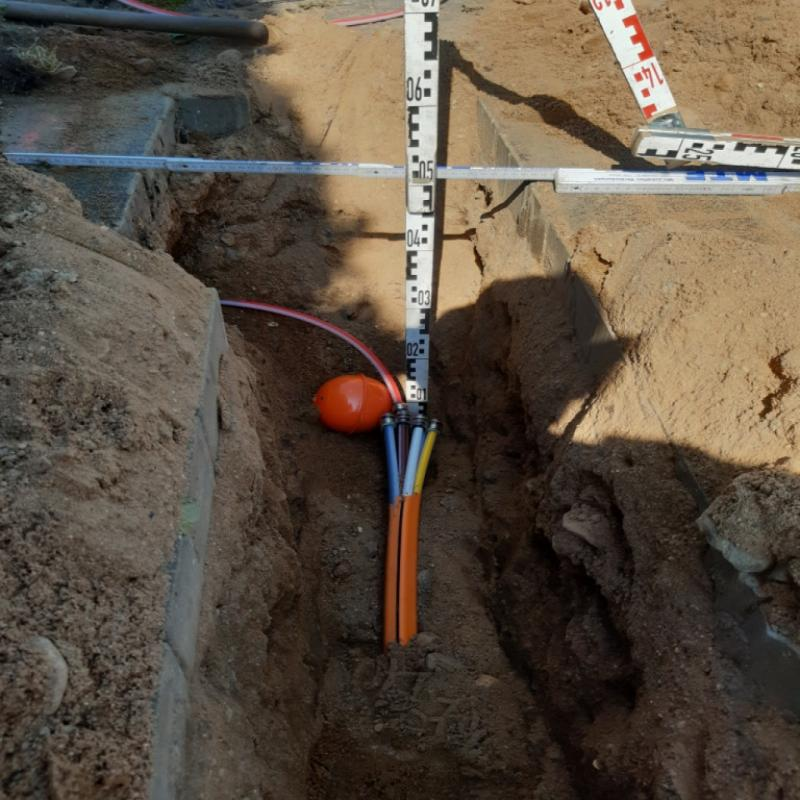Kugelmarker: (311, 375, 392, 431)
Orang-Speednetrohrchen: (379, 398, 445, 644)
